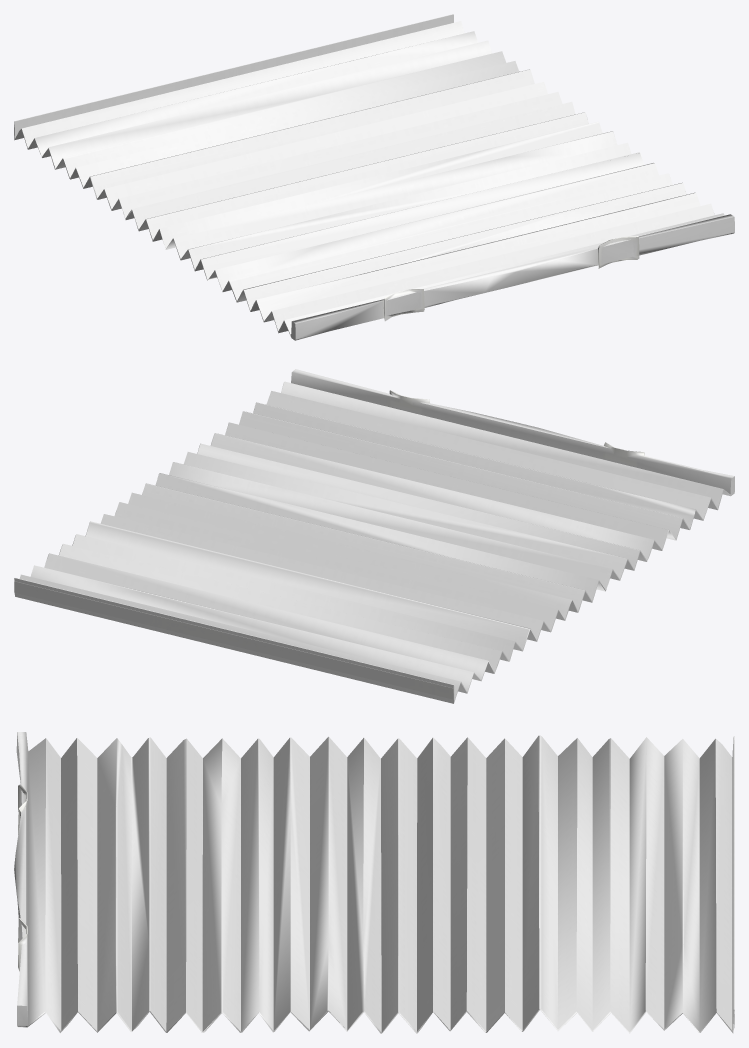
The model's file is schottis_plisowana_roleta_20242282.glb.
The picture shows the model from 3 angles, top to bottom: view 1: azimuth 30°, elevation 25°; view 2: azimuth 150°, elevation 25°; view 3: azimuth 270°, elevation 25°; orthographic projection. The views are drawn at different scales.
Visible parts, largest first — view 1: schottis_plisowana_roleta_20242282; view 2: schottis_plisowana_roleta_20242282; view 3: schottis_plisowana_roleta_20242282.
Part boxes in pixels (x1,y1,x2,y2): schottis_plisowana_roleta_20242282: [14, 14, 734, 340]; schottis_plisowana_roleta_20242282: [14, 369, 734, 703]; schottis_plisowana_roleta_20242282: [14, 732, 734, 1033].
Size of the model in its own units: 0.9018 by 0.0496 by 1.
2 materials, 2 textured.
